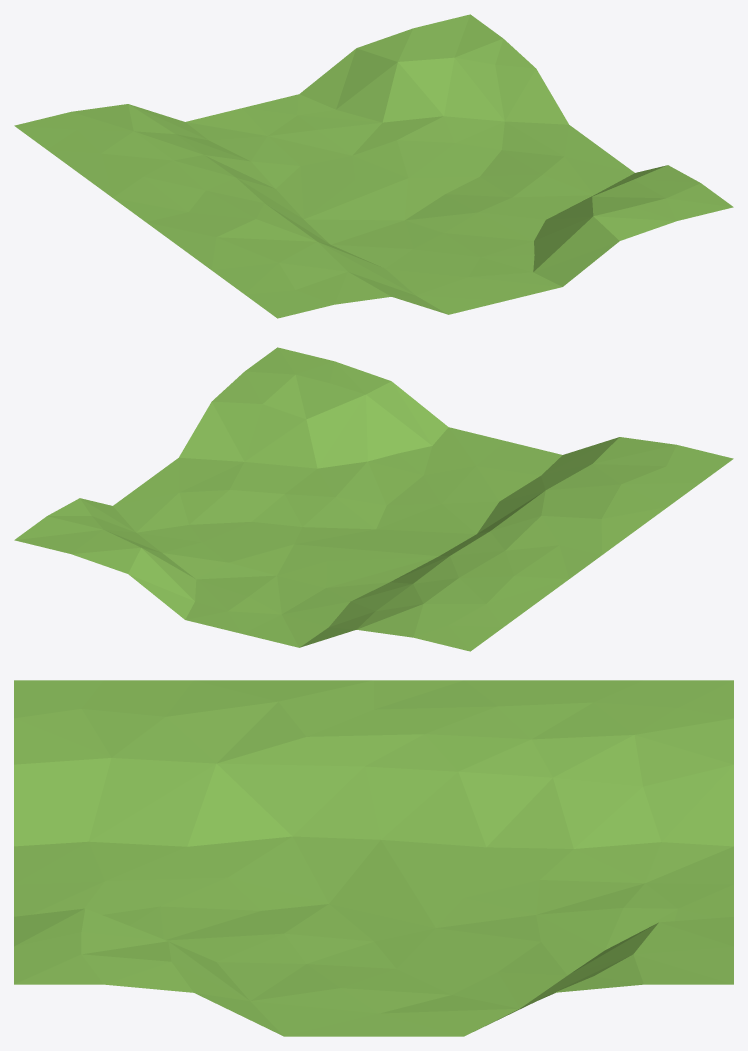
The model's file is MT_River_S_c_01_LOD.fbx.
3 renders of one model, top to bottom at view 1: azimuth 30°, elevation 25°; view 2: azimuth 150°, elevation 25°; view 3: azimuth 270°, elevation 25°, orthographic. The views are drawn at different scales.
Parts seen in each view (by area): view 1: MT_River_S_c_01_LOD0; view 2: MT_River_S_c_01_LOD0; view 3: MT_River_S_c_01_LOD0.
Boxes of the visible parts, x1,y1,x2,y2 form: MT_River_S_c_01_LOD0: [14, 14, 733, 318]; MT_River_S_c_01_LOD0: [14, 347, 733, 651]; MT_River_S_c_01_LOD0: [14, 680, 733, 1036].
Size of what is drawn, in the model's own units: 2500 by 247 by 2500.
